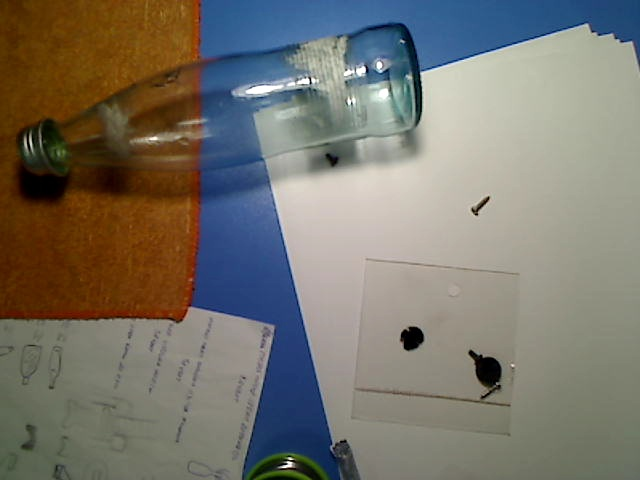bottle: (16, 21, 425, 177)
